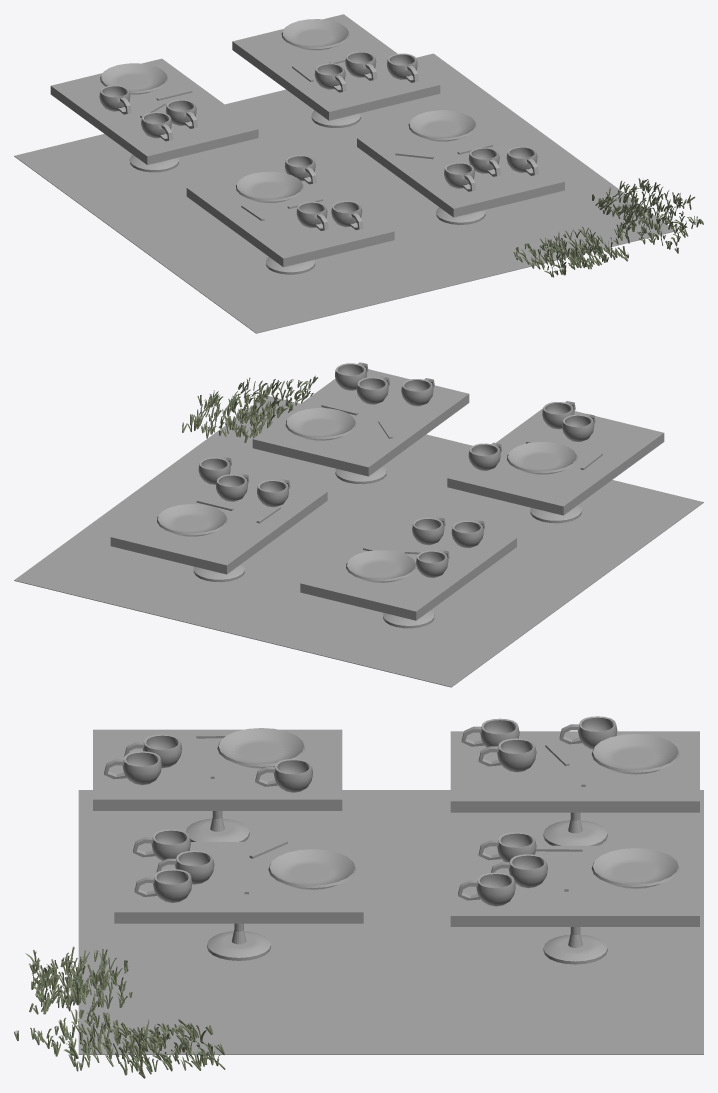
The model's file is zemi1.fbx.
3 renders of one model, top to bottom at view 1: azimuth 30°, elevation 25°; view 2: azimuth 150°, elevation 25°; view 3: azimuth 270°, elevation 25°, orthographic. The views are drawn at different scales.
Parts seen in each view (by area): view 1: pCube1, pasted__desk (×3), desk, pasted__cup (×10), grassBermuda4Main, pasted__dish (×2), dish, pasted__pasted__dish, pasted__pCylinder1 (×3), grassBermuda4Leaf, cup, pasted__pasted__cup (+1 smaller); view 2: pCube1, pasted__desk (×3), desk, pasted__cup (×10), pasted__dish (×2), grassBermuda4Main, dish, pasted__pasted__dish, pasted__pCylinder1 (×3), grassBermuda4Leaf, pasted__pasted__cup, cup (+1 smaller); view 3: pCube1, pasted__desk (×3), desk, pasted__cup (×10), grassBermuda4Main, pasted__dish (×2), pasted__pCylinder1 (×3), dish, pasted__pasted__dish, grassBermuda4Leaf, pCylinder1, cup (+1 smaller).
Part boxes in pixels (x1,y1,x2,y2): pCube1: (14,53,675,333); pasted__desk (×3): (50,58,564,267); desk: (232,14,440,120); pasted__cup (×10): (99,53,538,229); grassBermuda4Main: (513,179,703,277); pasted__dish (×2): (100,63,476,141); dish: (281,19,349,50); pasted__pasted__dish: (236,171,303,202); pasted__pCylinder1 (×3): (129,155,485,274); grassBermuda4Leaf: (516,178,701,273); cup: (345,51,377,80); pasted__pasted__cup: (296,201,328,230); pCube1: (14,396,703,687); pasted__desk (×3): (252,369,664,620); desk: (110,468,327,574); pasted__cup (×10): (198,362,575,577); pasted__dish (×2): (285,408,416,582); grassBermuda4Main: (182,377,316,442); dish: (157,504,227,536); pasted__pasted__dish: (507,442,577,474); pasted__pCylinder1 (×3): (335,465,581,628); grassBermuda4Leaf: (182,375,317,431); pasted__pasted__cup: (562,414,595,441); cup: (216,473,249,501); pCube1: (78,790,703,1054); pasted__desk (×3): (93,729,699,923); desk: (450,845,699,926); pasted__cup (×10): (104,716,617,906); grassBermuda4Main: (14,948,225,1078); pasted__dish (×2): (268,734,679,889); pasted__pCylinder1 (×3): (185,811,607,960); dish: (591,848,679,888); pasted__pasted__dish: (217,728,305,768); grassBermuda4Leaf: (14,946,220,1071); pCylinder1: (543,927,607,964); cup: (491,854,547,888).
Size of the model in its own units: 17.41 by 2.91 by 17.43.
